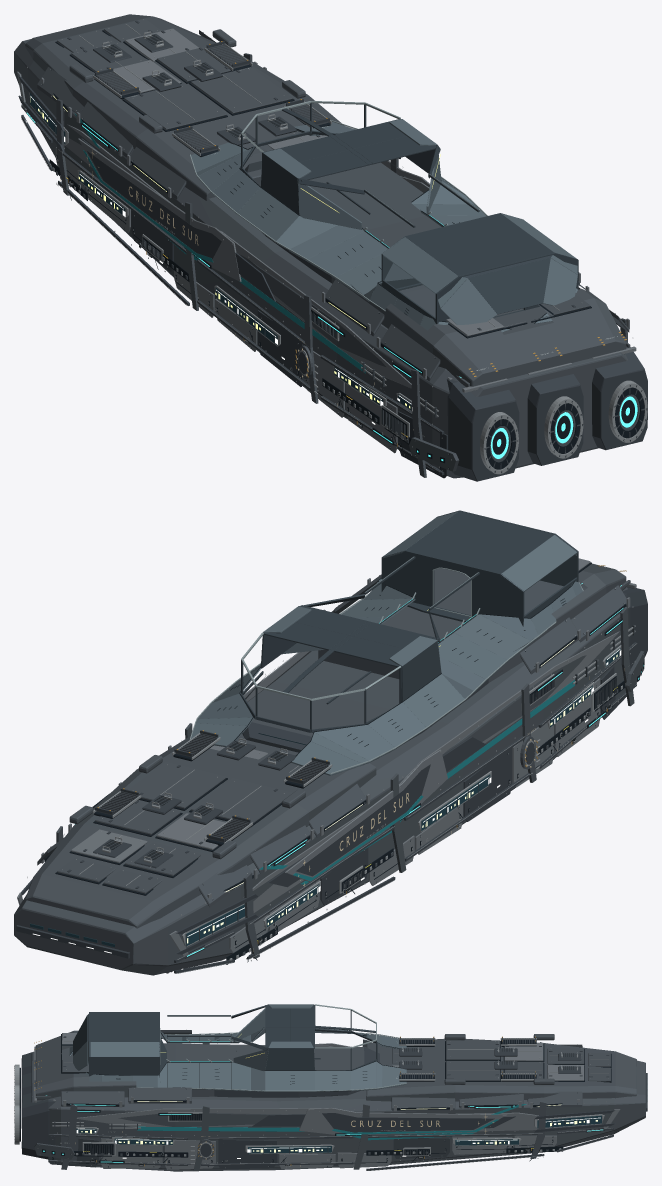
Rendered from cruz-del-sur-vestibule-envelope-transition-ready.glb.
3 renders of one model, top to bottom at view 1: azimuth 30°, elevation 25°; view 2: azimuth 150°, elevation 25°; view 3: azimuth 270°, elevation 25°, orthographic. The views are drawn at different scales.
Visible parts, largest first — view 1: UNIFIED_RUNTIME_lower-hull_SHIP_GAME_CDS_Ceramic graphite.00, UNIFIED_RUNTIME_lower-hull_SHIP_GAME_CDS_Dark armor.002, UNIFIED_RUNTIME_lower-hull_SHIP_GAME_CDS_Titanium armor.002, UNIFIED_RUNTIME_bridge_UNIFIED_Blue titanium_closed solids, UNIFIED_RUNTIME_arrival_UNIFIED_Graphite ceramic_closed soli, UNIFIED_RUNTIME_bridge_UNIFIED_Graphite ceramic_closed solid, UNIFIED_RUNTIME_lower-hull_SHIP_GAME_CDS_Deep recess.002, UNIFIED_RUNTIME_lower-hull_SHIP_GAME_CDS_Machined edges.002, UNIFIED_RUNTIME_arrival_UNIFIED_Blue titanium_closed solids, UNIFIED_RUNTIME_connector_UNIFIED_Blue titanium_closed solid, UNIFIED_RUNTIME_lower-hull_SHIP_GAME_CDS_Smoked sapphire gla, UNIFIED_RUNTIME_arrival_UNIFIED_Graphite ceramic (+3 smaller); view 2: UNIFIED_RUNTIME_lower-hull_SHIP_GAME_CDS_Ceramic graphite.00, UNIFIED_RUNTIME_lower-hull_SHIP_GAME_CDS_Dark armor.002, UNIFIED_RUNTIME_lower-hull_SHIP_GAME_CDS_Titanium armor.002, UNIFIED_RUNTIME_bridge_UNIFIED_Blue titanium_closed solids, UNIFIED_RUNTIME_bridge_UNIFIED_Graphite ceramic_closed solid, UNIFIED_RUNTIME_arrival_UNIFIED_Graphite ceramic_closed soli, UNIFIED_RUNTIME_arrival_UNIFIED_Graphite ceramic, UNIFIED_RUNTIME_connector_UNIFIED_Blue titanium_closed solid, UNIFIED_RUNTIME_lower-hull_SHIP_GAME_CDS_Deep recess.002, UNIFIED_RUNTIME_lower-hull_SHIP_GAME_CDS_Machined edges.002, UNIFIED_RUNTIME_arrival_UNIFIED_Blue titanium_closed solids, UNIFIED_RUNTIME_lower-hull_SHIP_GAME_CDS_Smoked sapphire gla (+2 smaller); view 3: UNIFIED_RUNTIME_lower-hull_SHIP_GAME_CDS_Ceramic graphite.00, UNIFIED_RUNTIME_lower-hull_SHIP_GAME_CDS_Dark armor.002, UNIFIED_RUNTIME_lower-hull_SHIP_GAME_CDS_Titanium armor.002, UNIFIED_RUNTIME_bridge_UNIFIED_Blue titanium_closed solids, UNIFIED_RUNTIME_lower-hull_SHIP_GAME_CDS_Machined edges.002, UNIFIED_RUNTIME_lower-hull_SHIP_GAME_CDS_Deep recess.002, UNIFIED_RUNTIME_arrival_UNIFIED_Graphite ceramic_closed soli, UNIFIED_RUNTIME_bridge_UNIFIED_Graphite ceramic_closed solid, UNIFIED_RUNTIME_connector_UNIFIED_Blue titanium_closed solid, UNIFIED_RUNTIME_arrival_UNIFIED_Blue titanium_closed solids, UNIFIED_RUNTIME_lower-hull_SHIP_GAME_CDS_Smoked sapphire gla, UNIFIED_RUNTIME_lower-hull_SHIP_GAME_CDS_Petrol livery.002 (+7 smaller).
Boxes of the visible parts, x1=… form: UNIFIED_RUNTIME_lower-hull_SHIP_GAME_CDS_Ceramic graphite.00: x1=14, y1=14, x2=644, y2=478; UNIFIED_RUNTIME_lower-hull_SHIP_GAME_CDS_Dark armor.002: x1=18, y1=20, x2=647, y2=481; UNIFIED_RUNTIME_lower-hull_SHIP_GAME_CDS_Titanium armor.002: x1=17, y1=28, x2=636, y2=453; UNIFIED_RUNTIME_bridge_UNIFIED_Blue titanium_closed solids: x1=191, y1=119, x2=485, y2=260; UNIFIED_RUNTIME_arrival_UNIFIED_Graphite ceramic_closed soli: x1=382, y1=213, x2=553, y2=322; UNIFIED_RUNTIME_bridge_UNIFIED_Graphite ceramic_closed solid: x1=240, y1=103, x2=440, y2=214; UNIFIED_RUNTIME_lower-hull_SHIP_GAME_CDS_Deep recess.002: x1=26, y1=30, x2=647, y2=474; UNIFIED_RUNTIME_lower-hull_SHIP_GAME_CDS_Machined edges.002: x1=21, y1=19, x2=647, y2=474; UNIFIED_RUNTIME_arrival_UNIFIED_Blue titanium_closed solids: x1=369, y1=214, x2=577, y2=332; UNIFIED_RUNTIME_connector_UNIFIED_Blue titanium_closed solid: x1=306, y1=215, x2=486, y2=301; UNIFIED_RUNTIME_lower-hull_SHIP_GAME_CDS_Smoked sapphire gla: x1=30, y1=93, x2=411, y2=409; UNIFIED_RUNTIME_arrival_UNIFIED_Graphite ceramic: x1=381, y1=213, x2=578, y2=323; UNIFIED_RUNTIME_lower-hull_SHIP_GAME_CDS_Ceramic graphite.00: x1=14, y1=563, x2=644, y2=975; UNIFIED_RUNTIME_lower-hull_SHIP_GAME_CDS_Dark armor.002: x1=16, y1=587, x2=647, y2=973; UNIFIED_RUNTIME_lower-hull_SHIP_GAME_CDS_Titanium armor.002: x1=17, y1=558, x2=636, y2=955; UNIFIED_RUNTIME_bridge_UNIFIED_Blue titanium_closed solids: x1=191, y1=606, x2=486, y2=775; UNIFIED_RUNTIME_bridge_UNIFIED_Graphite ceramic_closed solid: x1=240, y1=594, x2=441, y2=732; UNIFIED_RUNTIME_arrival_UNIFIED_Graphite ceramic_closed soli: x1=379, y1=511, x2=577, y2=630; UNIFIED_RUNTIME_arrival_UNIFIED_Graphite ceramic: x1=381, y1=510, x2=578, y2=626; UNIFIED_RUNTIME_connector_UNIFIED_Blue titanium_closed solid: x1=341, y1=581, x2=538, y2=680; UNIFIED_RUNTIME_lower-hull_SHIP_GAME_CDS_Deep recess.002: x1=44, y1=562, x2=643, y2=964; UNIFIED_RUNTIME_lower-hull_SHIP_GAME_CDS_Machined edges.002: x1=27, y1=561, x2=644, y2=973; UNIFIED_RUNTIME_arrival_UNIFIED_Blue titanium_closed solids: x1=379, y1=511, x2=582, y2=634; UNIFIED_RUNTIME_lower-hull_SHIP_GAME_CDS_Smoked sapphire gla: x1=30, y1=648, x2=620, y2=947; UNIFIED_RUNTIME_lower-hull_SHIP_GAME_CDS_Ceramic graphite.00: x1=31, y1=1030, x2=645, y2=1171; UNIFIED_RUNTIME_lower-hull_SHIP_GAME_CDS_Dark armor.002: x1=21, y1=1036, x2=647, y2=1171; UNIFIED_RUNTIME_lower-hull_SHIP_GAME_CDS_Titanium armor.002: x1=34, y1=1033, x2=620, y2=1169; UNIFIED_RUNTIME_bridge_UNIFIED_Blue titanium_closed solids: x1=231, y1=1004, x2=406, y2=1091; UNIFIED_RUNTIME_lower-hull_SHIP_GAME_CDS_Machined edges.002: x1=14, y1=1029, x2=612, y2=1170; UNIFIED_RUNTIME_lower-hull_SHIP_GAME_CDS_Deep recess.002: x1=19, y1=1034, x2=611, y2=1168; UNIFIED_RUNTIME_arrival_UNIFIED_Graphite ceramic_closed soli: x1=73, y1=1012, x2=166, y2=1075; UNIFIED_RUNTIME_bridge_UNIFIED_Graphite ceramic_closed solid: x1=231, y1=1004, x2=377, y2=1070; UNIFIED_RUNTIME_connector_UNIFIED_Blue titanium_closed solid: x1=158, y1=1031, x2=231, y2=1090; UNIFIED_RUNTIME_arrival_UNIFIED_Blue titanium_closed solids: x1=69, y1=1023, x2=159, y2=1087; UNIFIED_RUNTIME_lower-hull_SHIP_GAME_CDS_Smoked sapphire gla: x1=76, y1=1074, x2=647, y2=1153; UNIFIED_RUNTIME_lower-hull_SHIP_GAME_CDS_Petrol livery.002: x1=137, y1=1104, x2=526, y2=1140.
Size of the model in its own units: 16.06 by 13.23 by 59.83.
